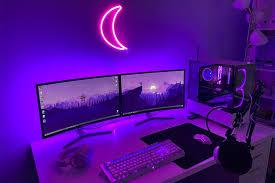keyboard: (99, 138, 185, 182)
